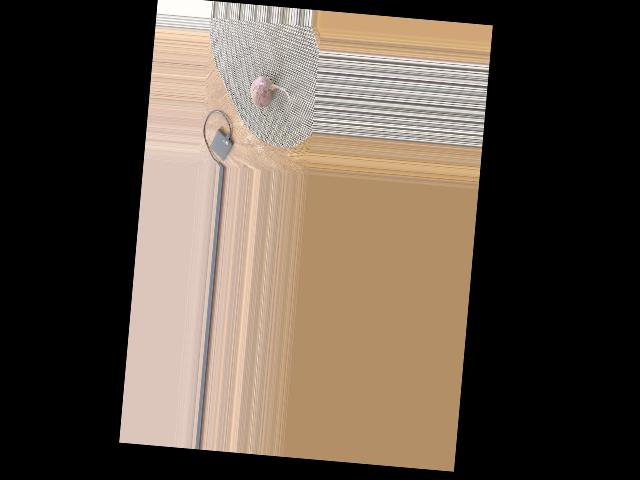beet: (249, 75, 292, 110)
